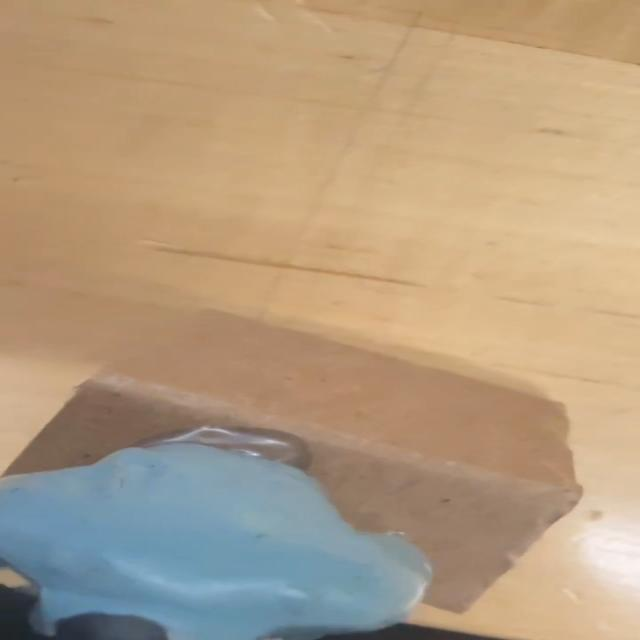Authorized: (0, 430, 439, 640)
